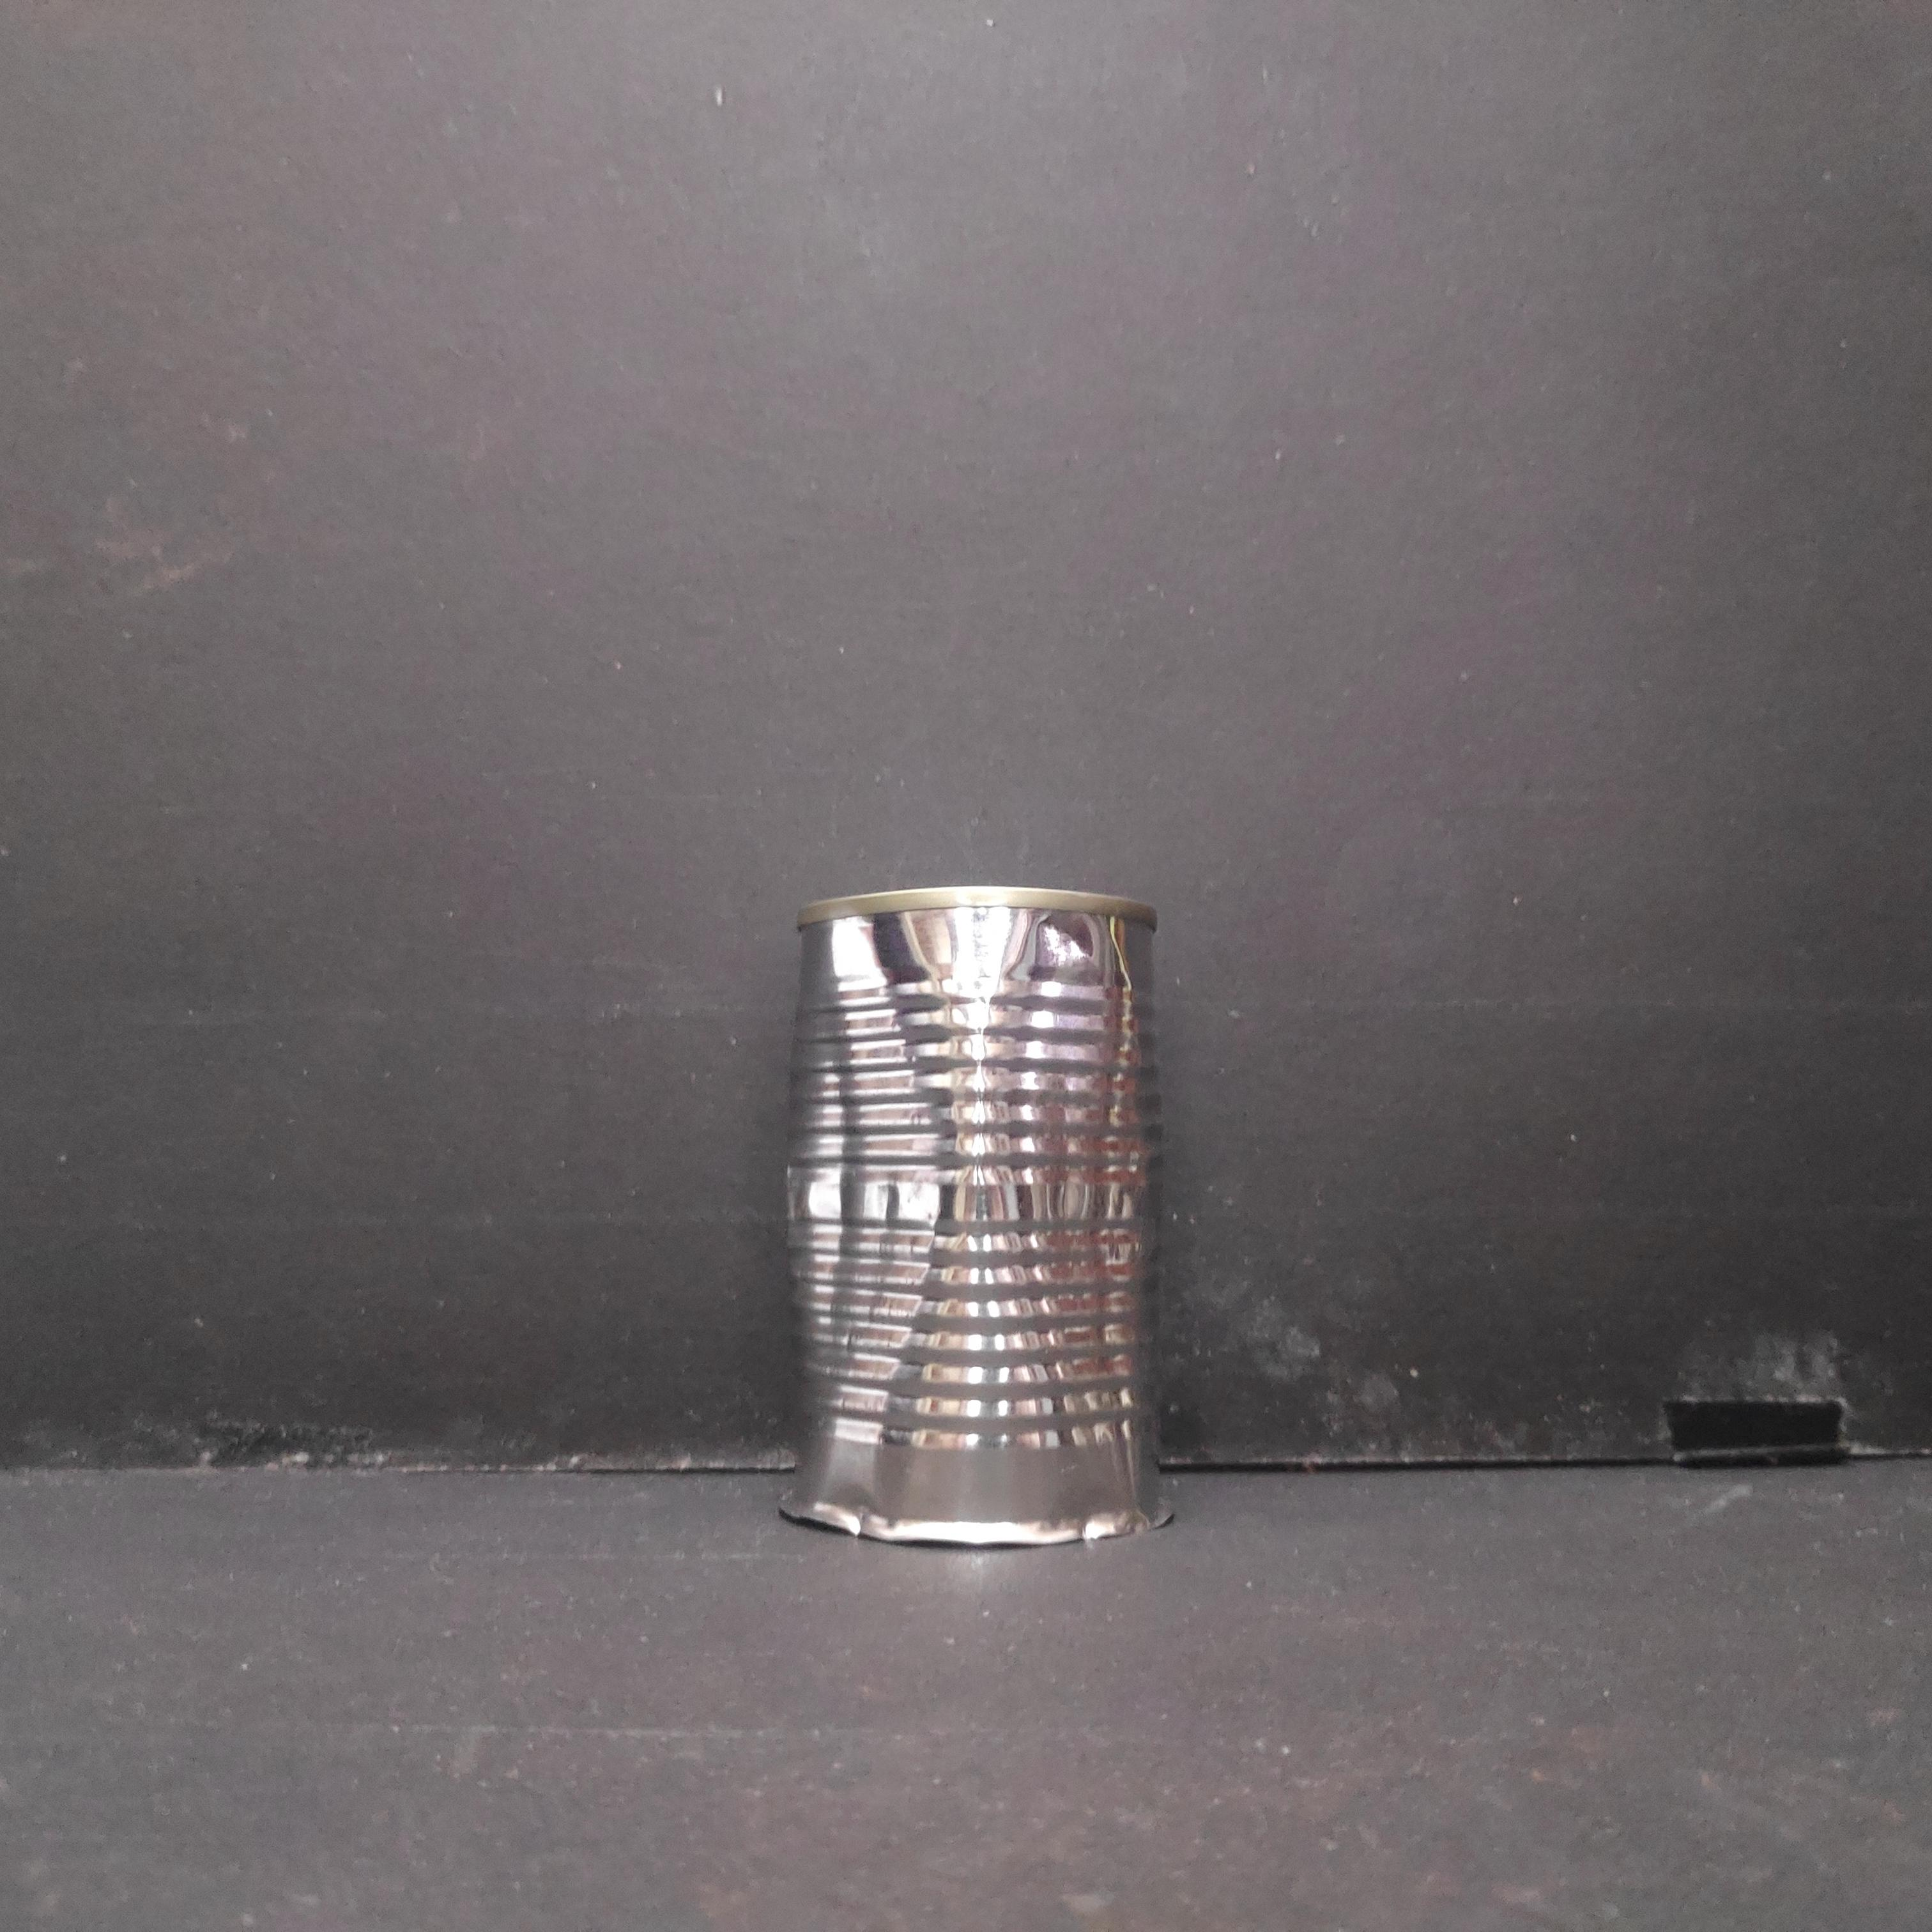Minor Defect: (768, 883, 1182, 1564)
